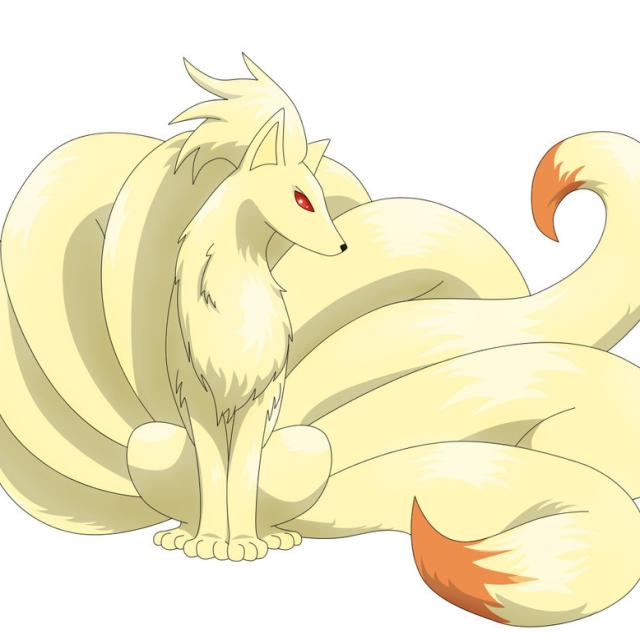Ninetales: (0, 108, 494, 556)
